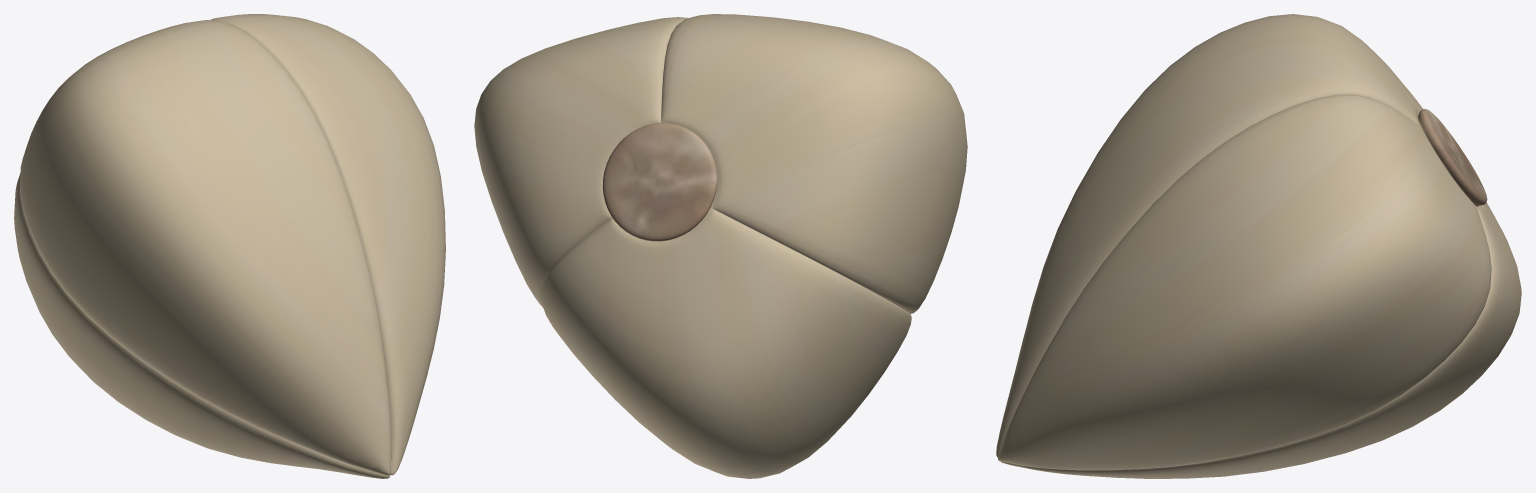
Rendered from GrainBuckwheat045.obj.
3 renders of one model, left to right at view 1: azimuth 30°, elevation 25°; view 2: azimuth 150°, elevation 25°; view 3: azimuth 270°, elevation 25°, orthographic. The views are drawn at different scales.
Visible parts, largest first — view 1: GrainBuckwheat045; view 2: GrainBuckwheat045; view 3: GrainBuckwheat045.
Boxes of the visible parts, x1,y1,x2,y2 form: GrainBuckwheat045: (14,14,445,478); GrainBuckwheat045: (474,14,967,478); GrainBuckwheat045: (996,14,1521,478).
Size of the model in its own units: 0.0264 by 0.0261 by 0.0301.
Materials: 1 (1 with a texture image).
